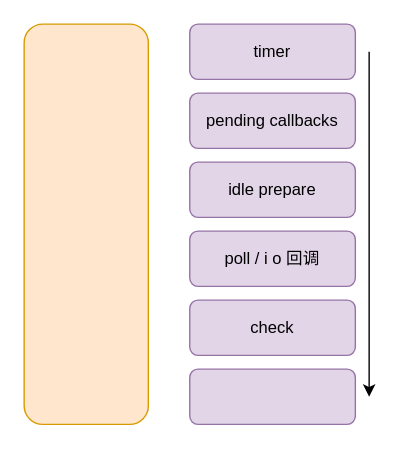
Some shapes in this 404 by 449 pixel diagram are drawn without their labels. Here are the shapes that lost their labels. From the top down, the box of each, then its label:
(23, 23, 148, 424): 微任务
(188, 368, 355, 424): close callback
